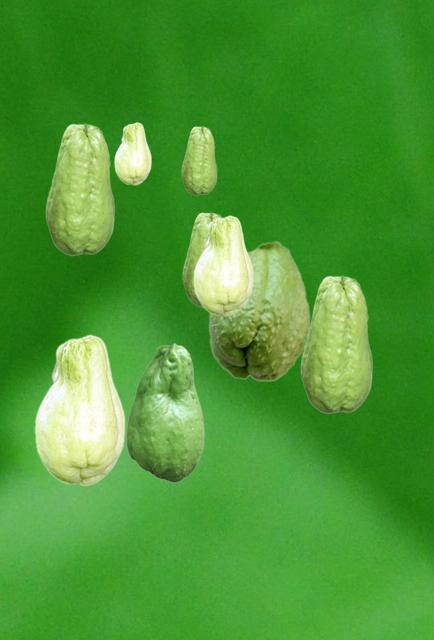sayote: (208, 240, 310, 381), (34, 334, 124, 485), (126, 343, 203, 481), (300, 275, 372, 413), (45, 123, 114, 255), (193, 215, 252, 315), (182, 212, 221, 306), (181, 126, 216, 194), (114, 122, 150, 184)
